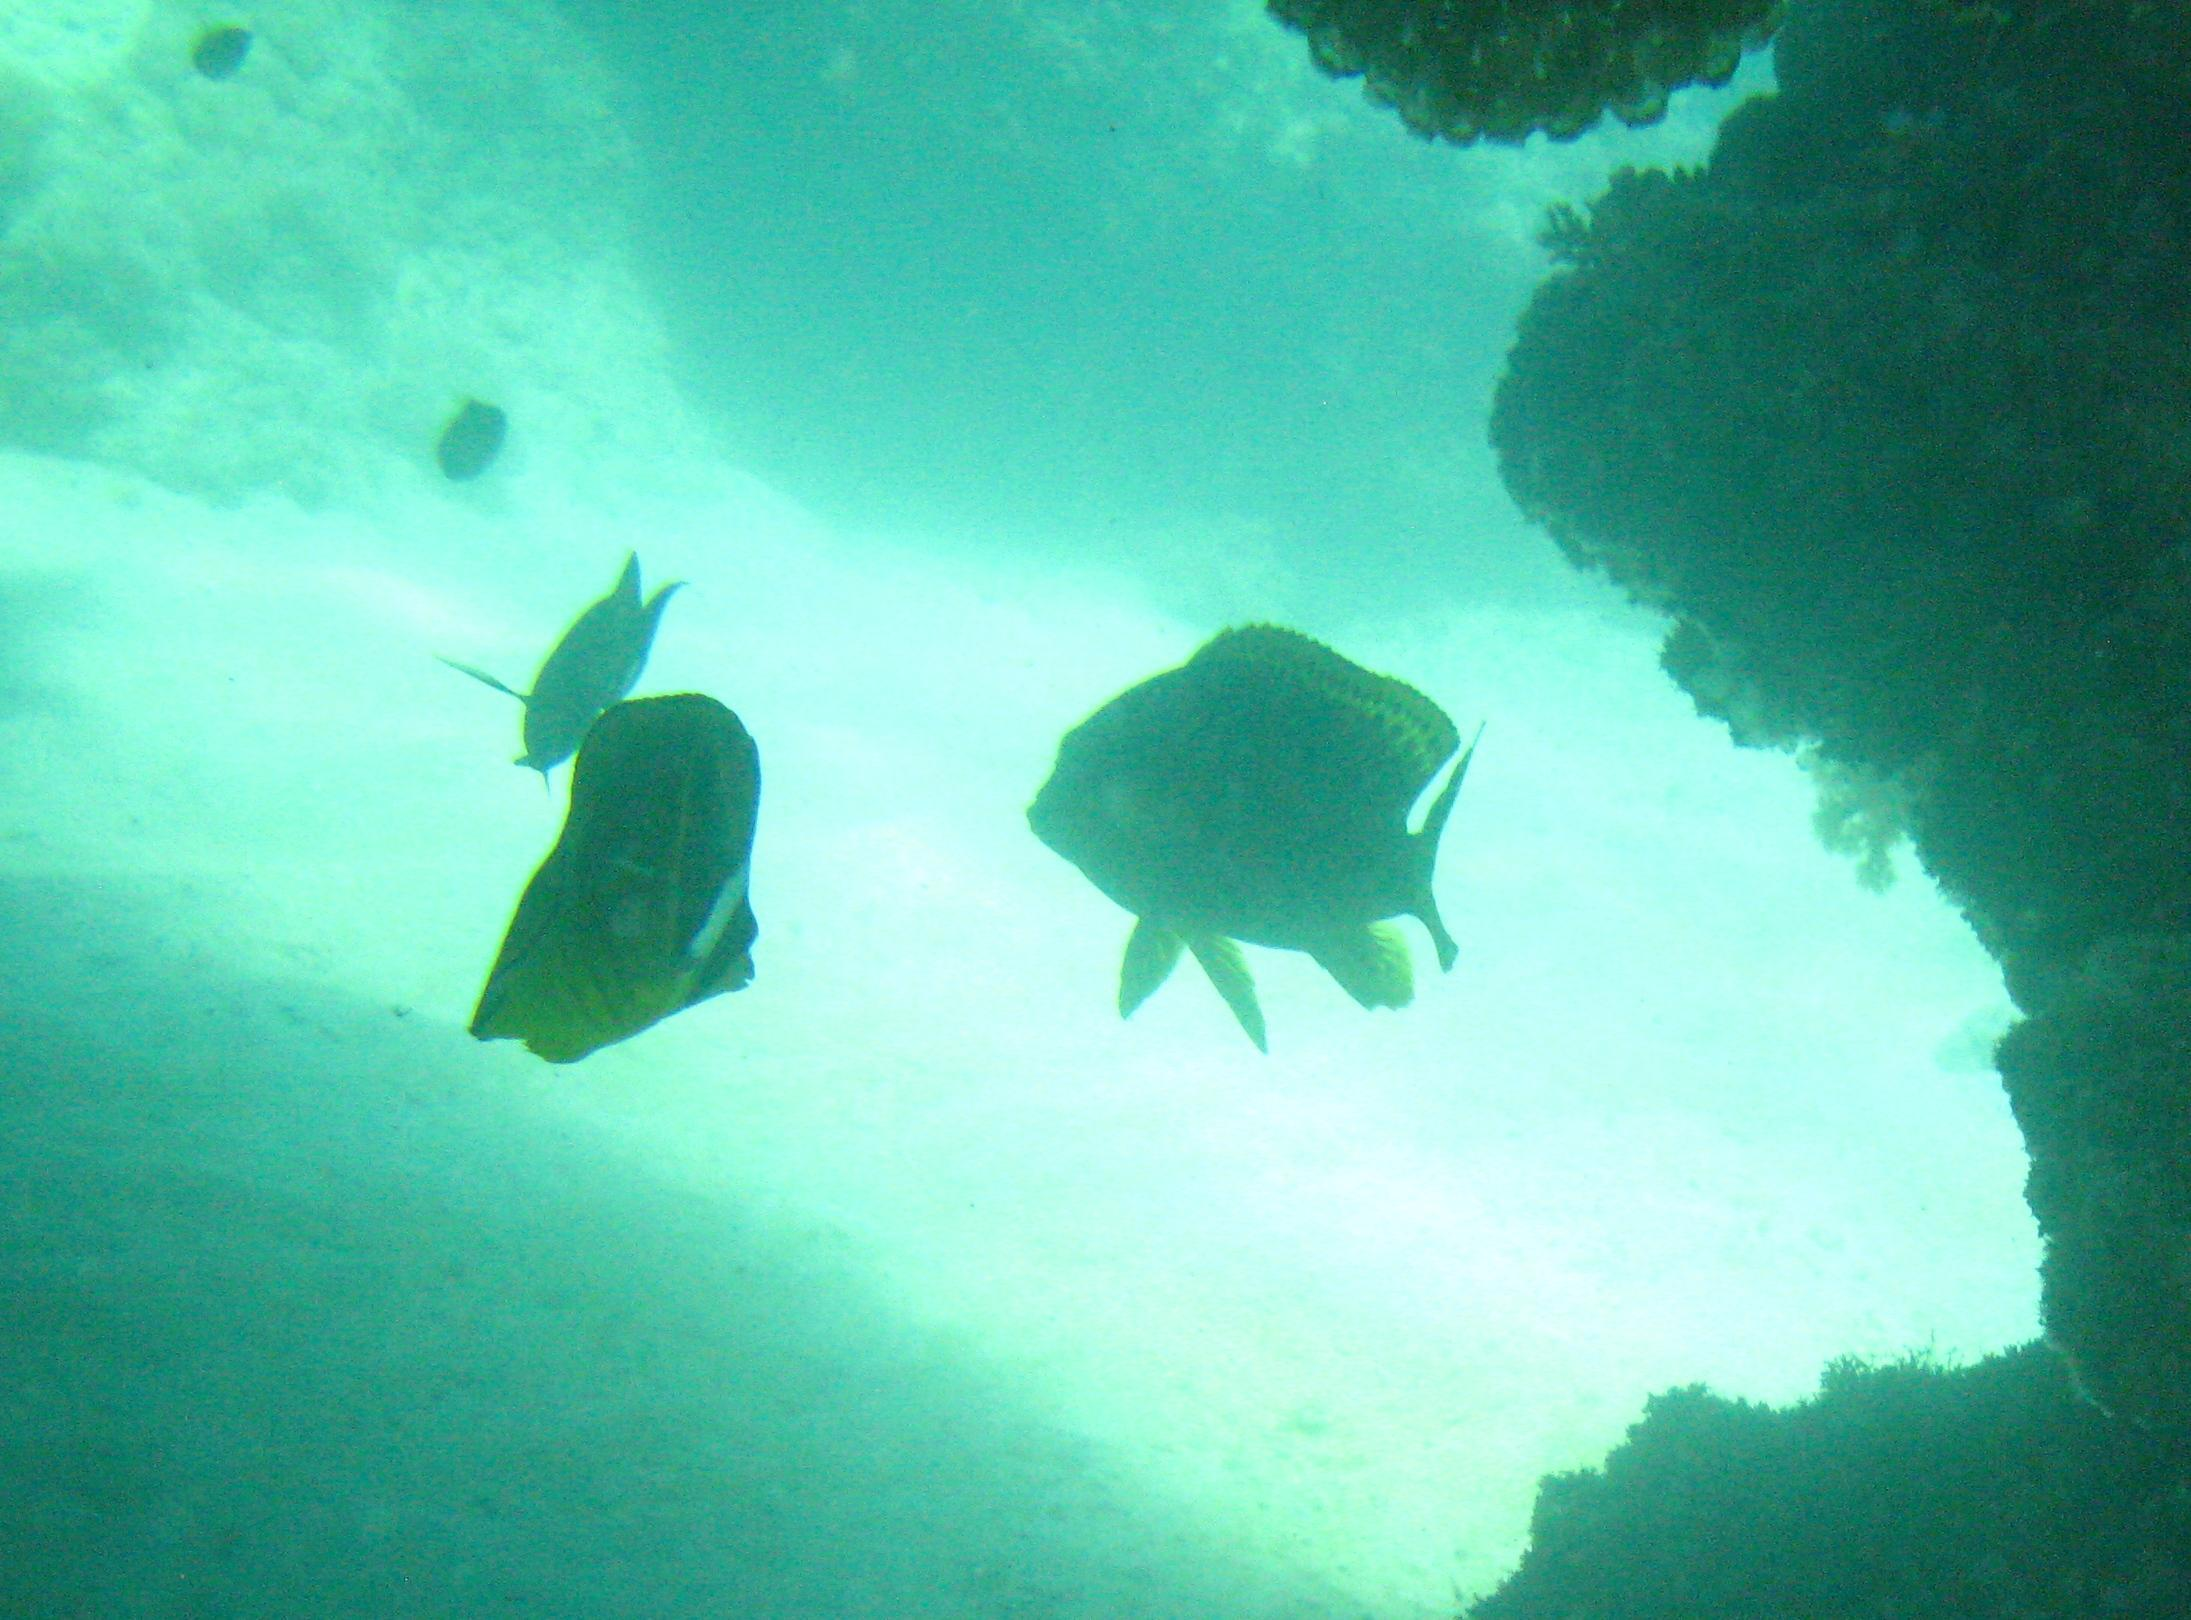Fish: (432, 684, 823, 1091)
